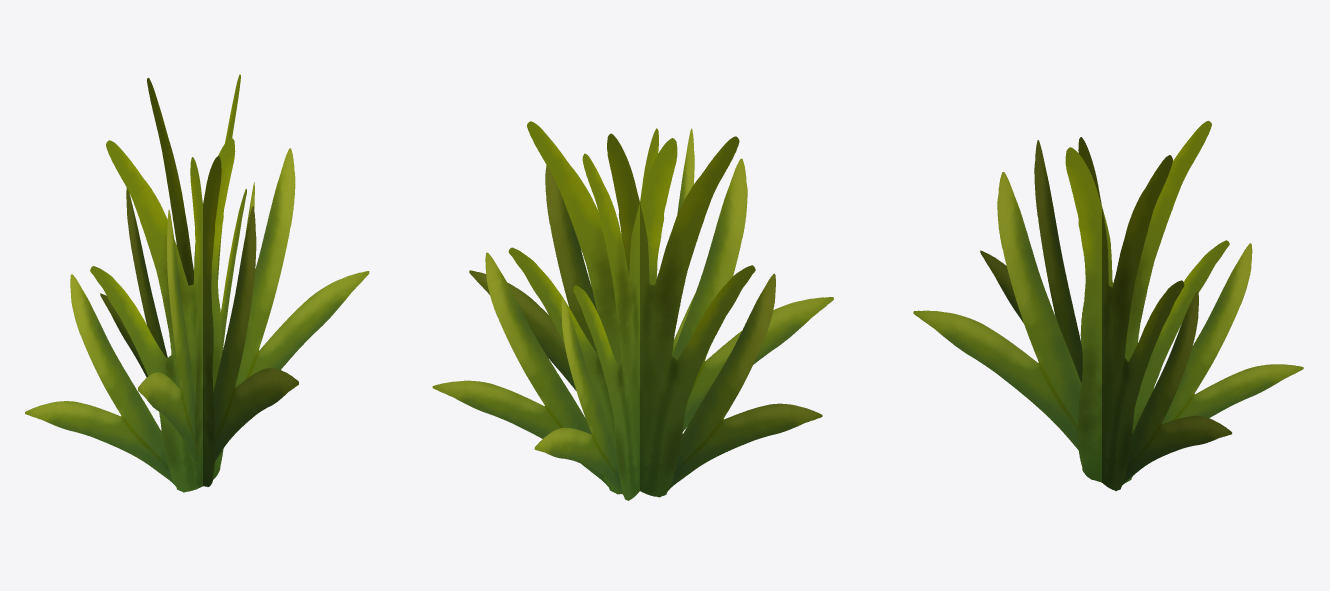
Rendered from ALGA_01A.fbx.
3 renders of one model, left to right at view 1: azimuth 30°, elevation 25°; view 2: azimuth 150°, elevation 25°; view 3: azimuth 270°, elevation 25°, orthographic. The views are drawn at different scales.
Parts seen in each view (by area): view 1: ALGA_01A; view 2: ALGA_01A; view 3: ALGA_01A.
Part boxes in pixels (left/top/right/bottom): ALGA_01A: left=25, top=74, right=369, bottom=492; ALGA_01A: left=432, top=121, right=833, bottom=500; ALGA_01A: left=913, top=120, right=1303, bottom=490.
Size of the model in its own units: 53.04 by 52.39 by 53.04.
